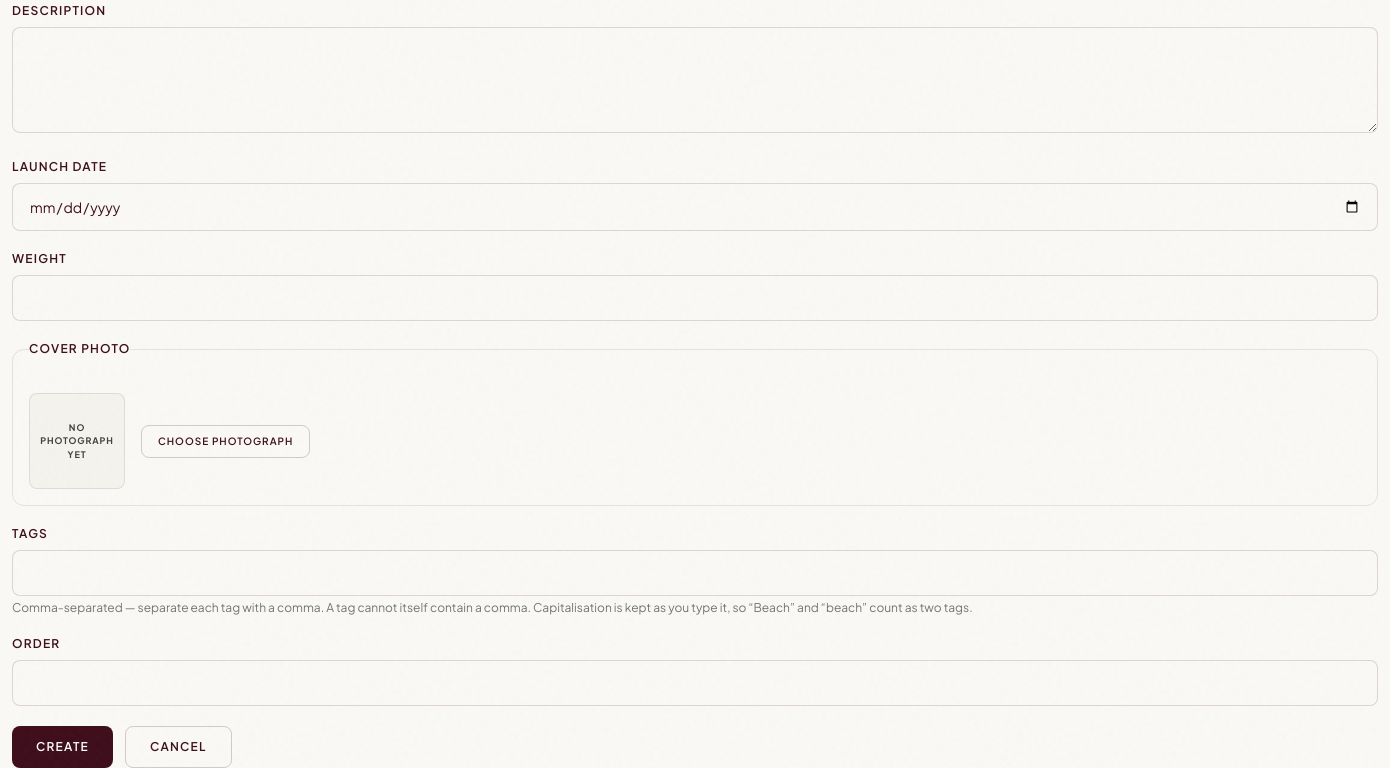
Scenario: ResourceForm › required fields › blocks submission and shows an inline message when a required field is empty
The image size is (1390, 768).
(page scrolled)
Click the button "Create" at (62, 747), box 12,726 -> 113,767
(page scrolled)
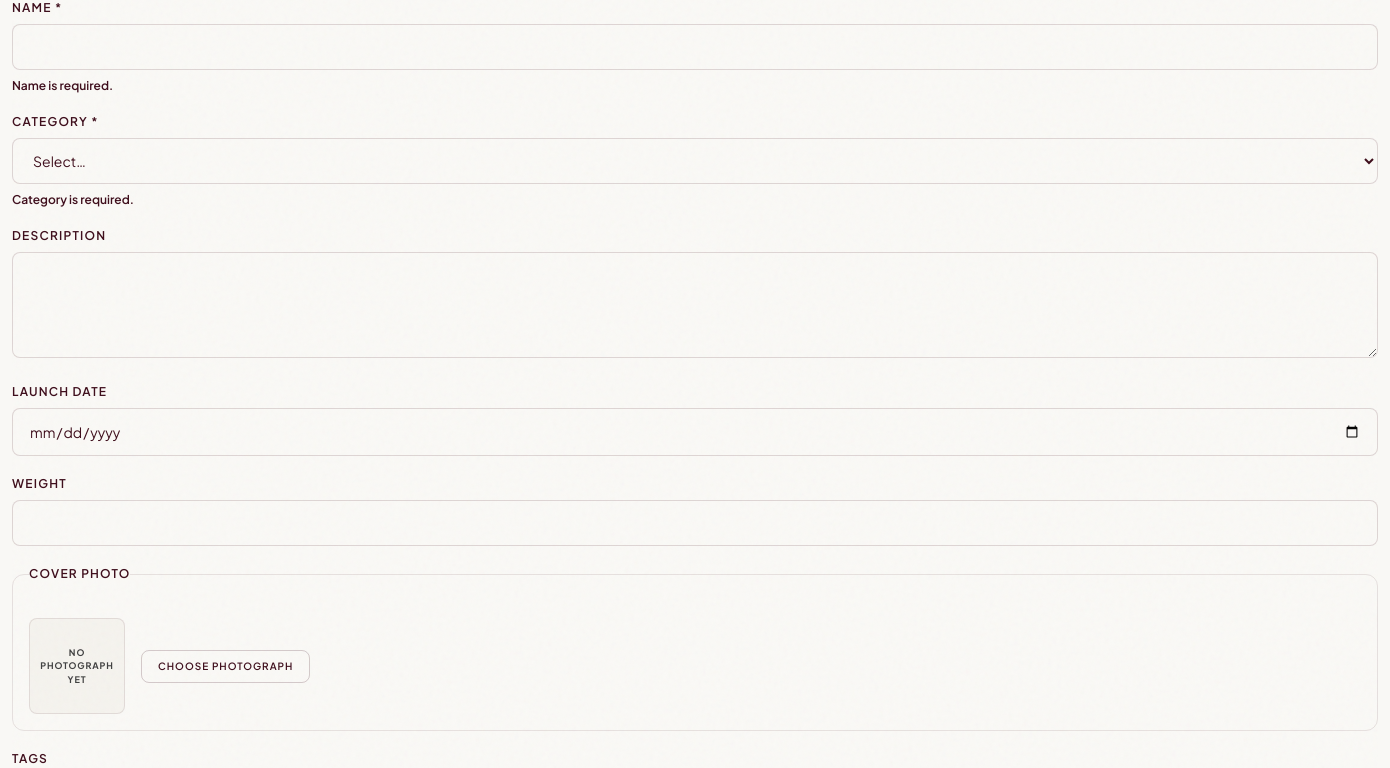
Now the text "Name is required." is shown, box 12,78 -> 113,93
